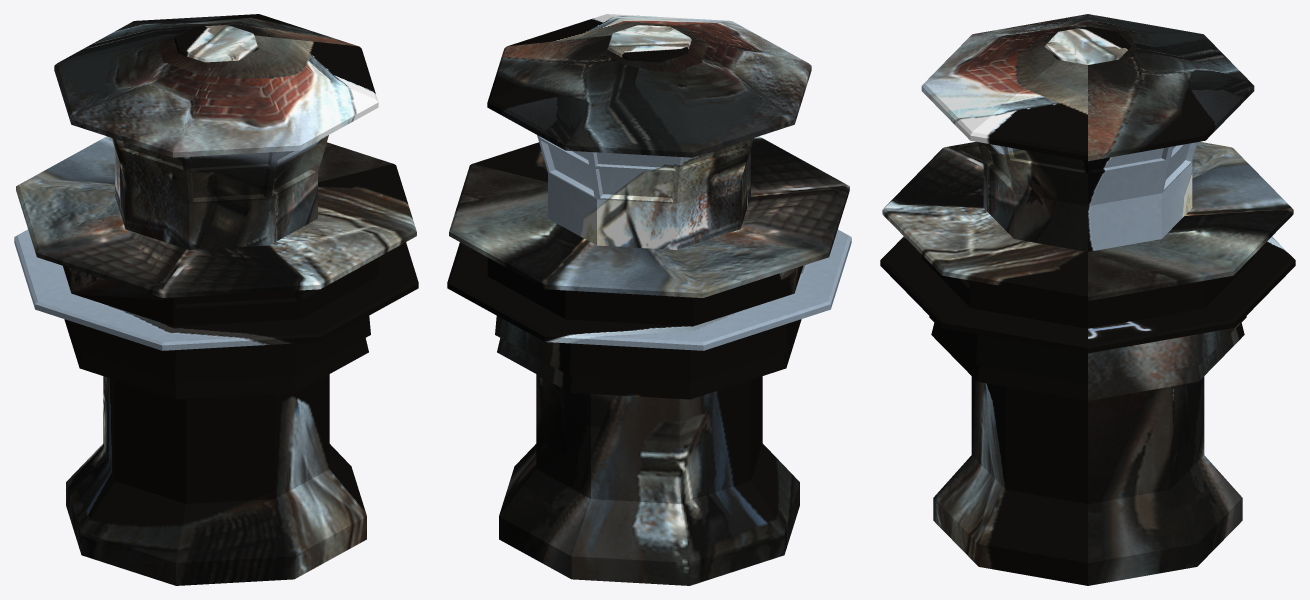
File: tower_small.obj
3 views of the same model, side by side, from view 1: azimuth 30°, elevation 25°; view 2: azimuth 150°, elevation 25°; view 3: azimuth 270°, elevation 25° (orthographic).
Parts seen in each view (by area): view 1: tower_small; view 2: tower_small; view 3: tower_small.
Boxes of the visible parts, x1=… form: tower_small: x1=14, y1=14, x2=418, y2=585; tower_small: x1=447, y1=14, x2=851, y2=585; tower_small: x1=880, y1=14, x2=1295, y2=585.
Size of the model in its own units: 26.65 by 33.71 by 26.65.
